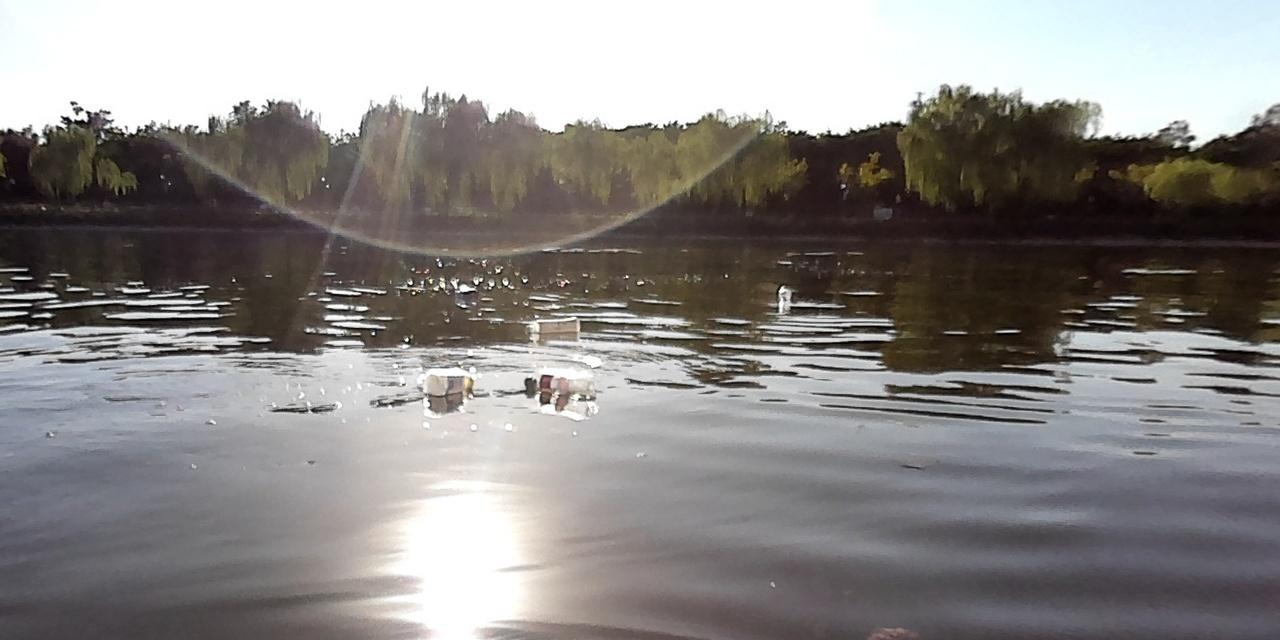bottle: (521, 369, 596, 403), (419, 365, 473, 398), (522, 314, 583, 339), (776, 282, 793, 302)
